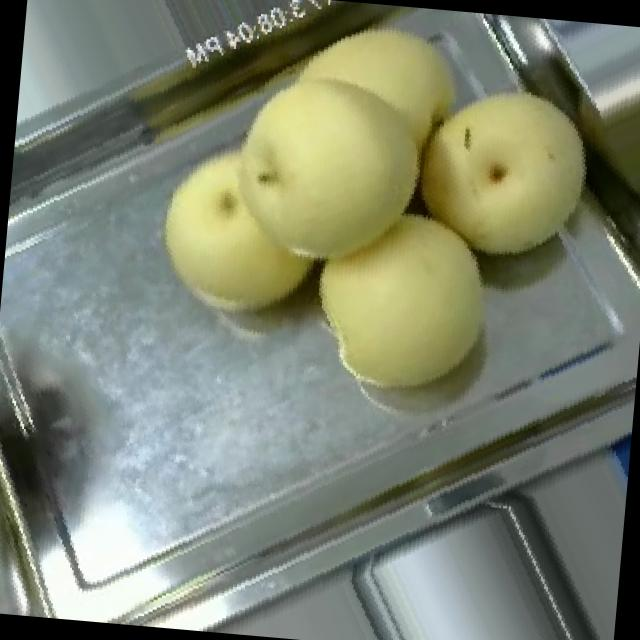Fruit: (130, 0, 493, 359), (280, 167, 532, 426), (382, 46, 627, 295)
